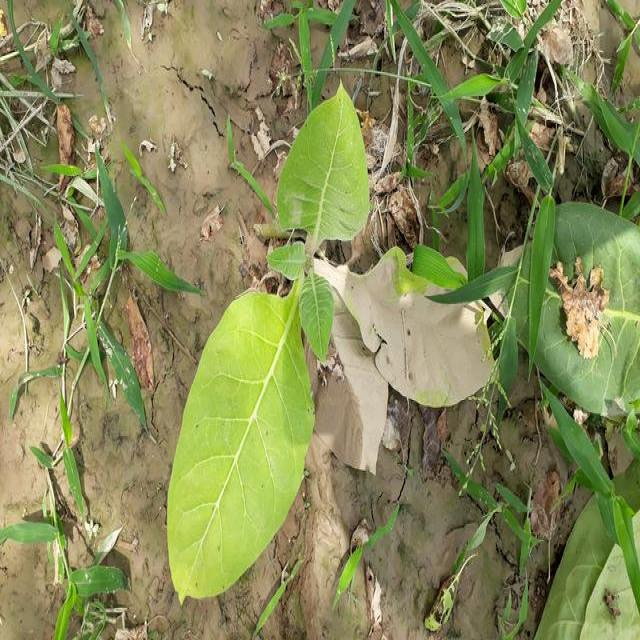crop: (183, 96, 490, 594), (506, 208, 640, 414), (540, 505, 639, 640)
